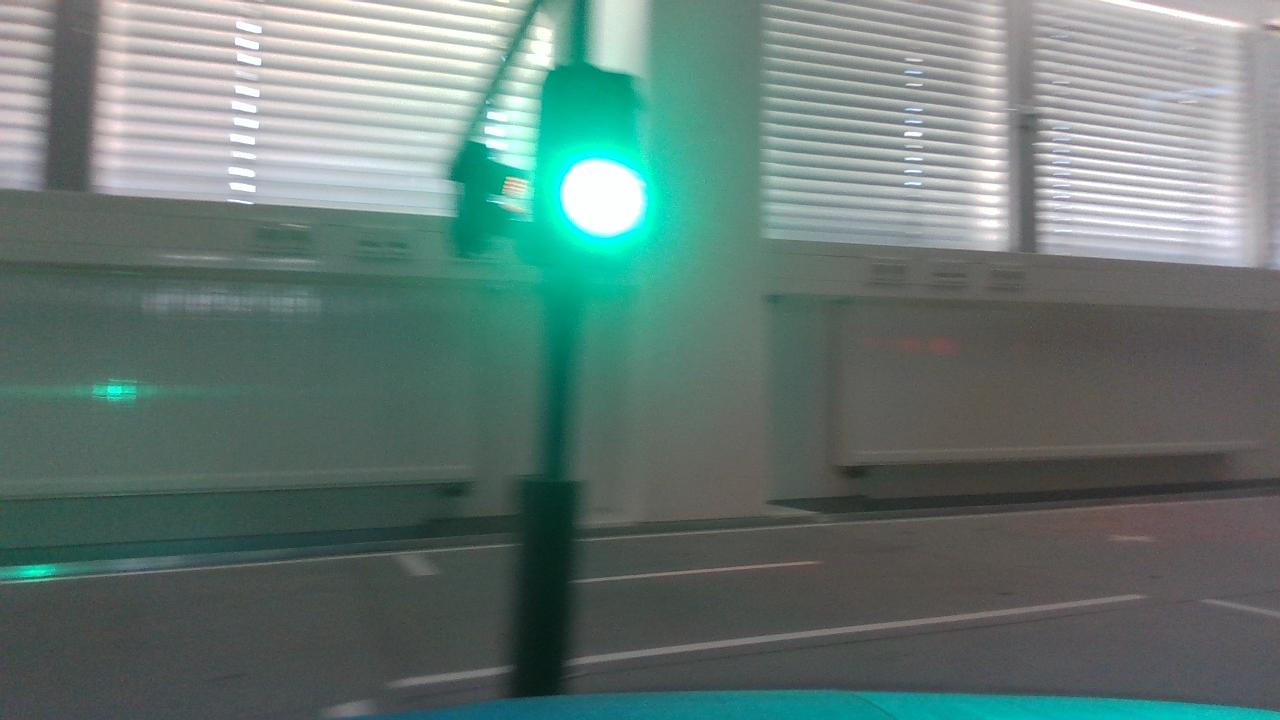traffic_light_green: (500, 47, 670, 287)
